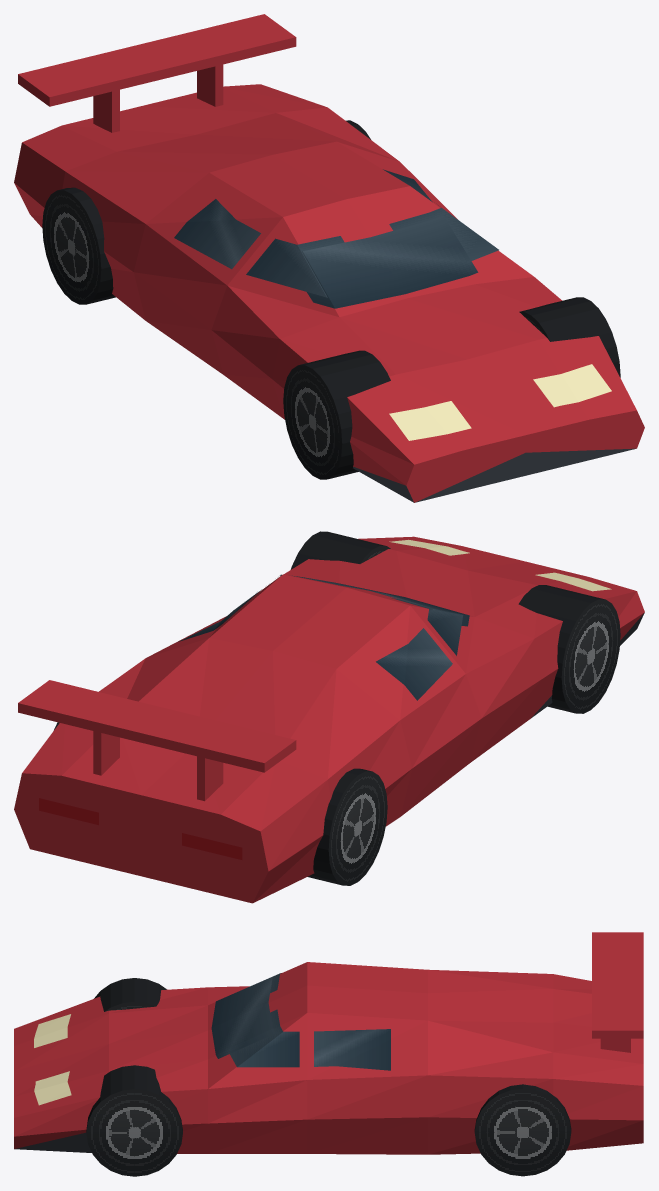
Rendered from supercar.obj.
The picture shows the model from 3 angles, top to bottom: view 1: azimuth 30°, elevation 25°; view 2: azimuth 150°, elevation 25°; view 3: azimuth 270°, elevation 25°; orthographic projection. The views are drawn at different scales.
Visible parts, largest first — view 1: supercar; view 2: supercar; view 3: supercar.
Part boxes in pixels (left/top/right/bottom): supercar: left=14, top=14, right=644, bottom=502; supercar: left=14, top=531, right=644, bottom=903; supercar: left=14, top=932, right=643, bottom=1176.
Bounding box in the file's own units: 2 × 1.14 × 4.66.
7 materials, 2 textured.
